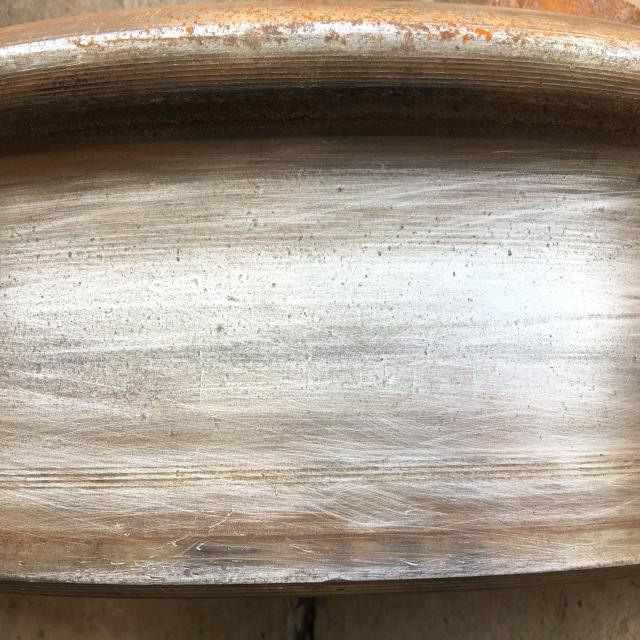Contact_Fatigue_Cracks: (195, 336, 205, 406), (380, 354, 390, 390), (471, 359, 478, 407), (411, 367, 419, 399)
